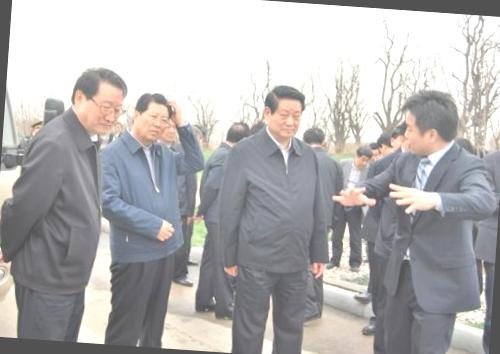no_helmet: (394, 85, 462, 162), (70, 60, 132, 142), (260, 82, 310, 145), (129, 88, 173, 148), (219, 119, 250, 158), (298, 124, 330, 156), (374, 131, 396, 163), (352, 147, 374, 172)
